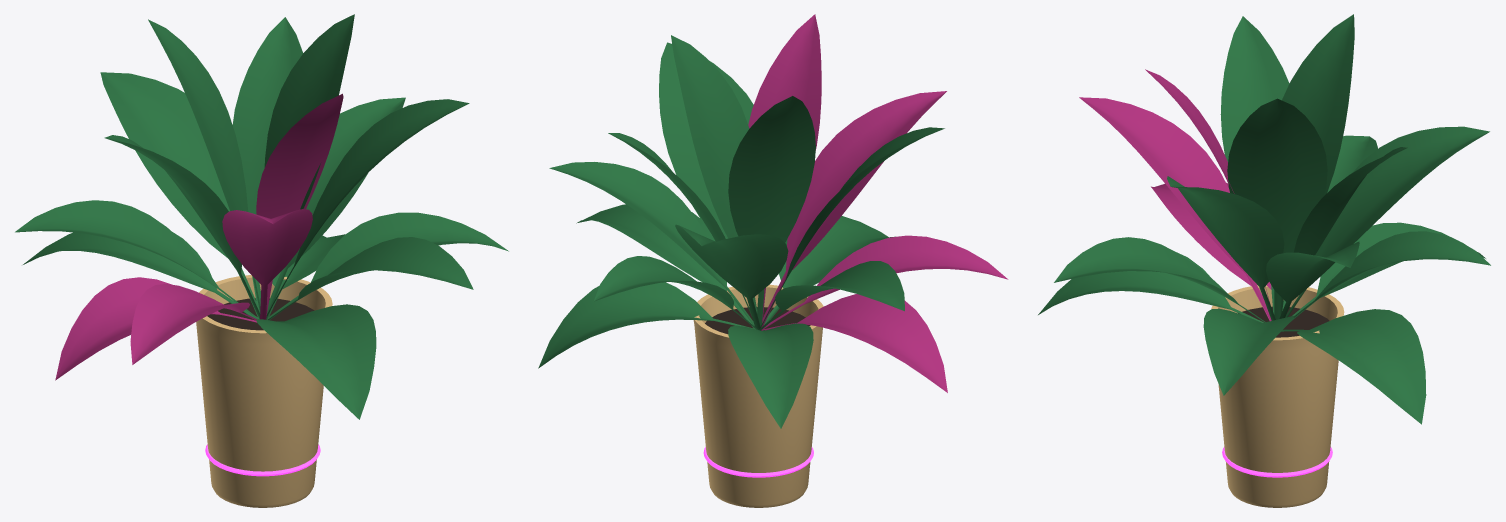
File: KIT_Planta_Vaso.glb
3 renders of one model, left to right at view 1: azimuth 30°, elevation 25°; view 2: azimuth 150°, elevation 25°; view 3: azimuth 270°, elevation 25°, orthographic. The views are drawn at different scales.
Parts seen in each view (by area): view 1: KIT_Planta_Vaso; view 2: KIT_Planta_Vaso; view 3: KIT_Planta_Vaso.
Part boxes in pixels (bbox=[...]): KIT_Planta_Vaso: bbox=[15, 14, 508, 507]; KIT_Planta_Vaso: bbox=[538, 14, 1008, 507]; KIT_Planta_Vaso: bbox=[1038, 14, 1490, 507].
Bounding box in the file's own units: 1.08 × 1.12 × 1.05.
